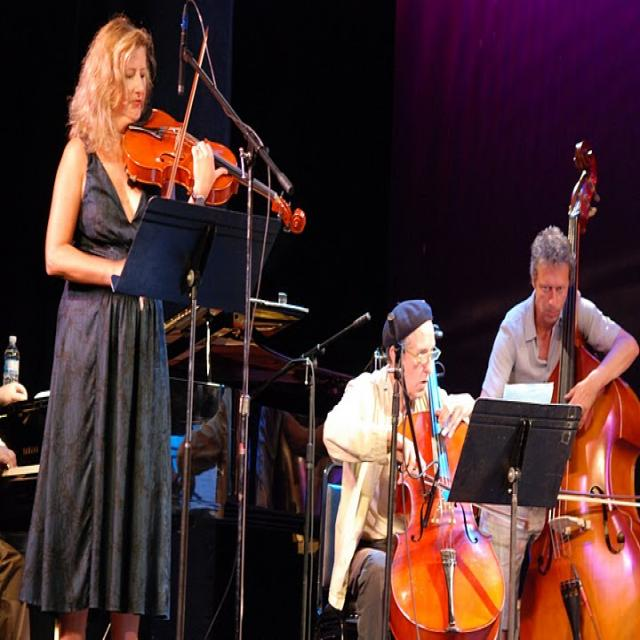cello: (388, 316, 505, 640)
violin: (122, 104, 307, 240)
